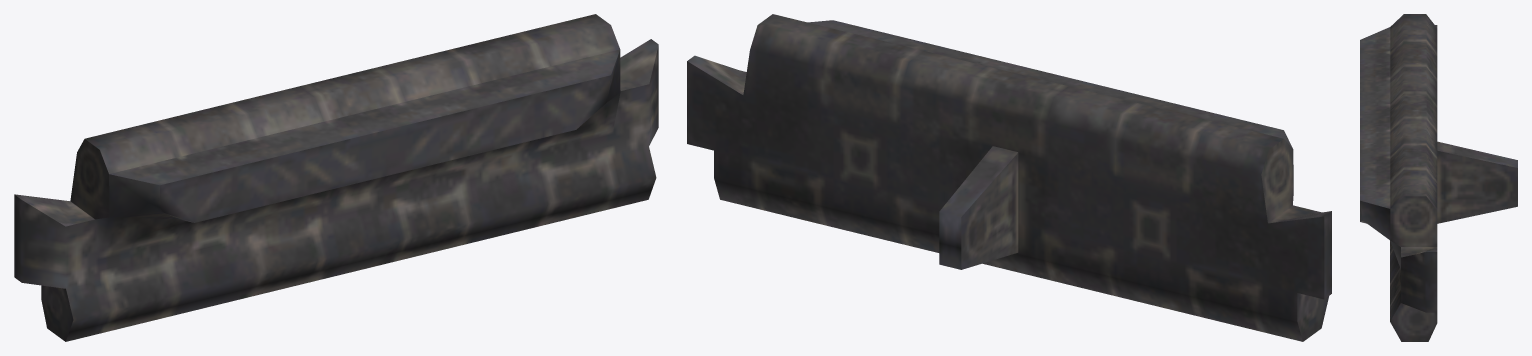
3 views of the same model, side by side, from view 1: azimuth 30°, elevation 25°; view 2: azimuth 150°, elevation 25°; view 3: azimuth 270°, elevation 25° (orthographic). The views are drawn at different scales.
Visible parts, largest first — view 1: set_0_group_0; view 2: set_0_group_0; view 3: set_0_group_0.
Boxes of the visible parts, box(x1,y1,x2,y2) form: set_0_group_0: box(14, 14, 658, 341); set_0_group_0: box(687, 14, 1331, 341); set_0_group_0: box(1360, 14, 1517, 341).
Bounding box in the file's own units: 0.5999 × 0.1639 × 0.1763.
1 material, 1 textured.
